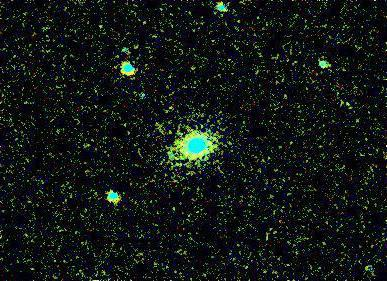star: (157, 145, 187, 175)
